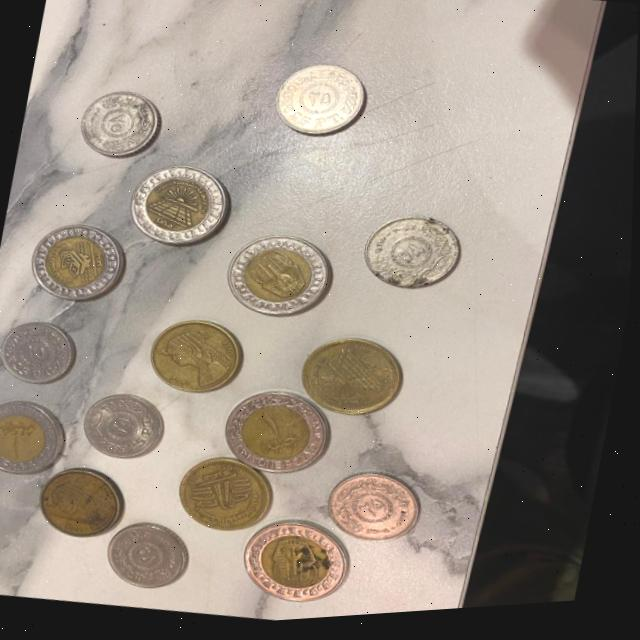Half Pound: (285, 326, 422, 430), (143, 309, 259, 409)
One Pound: (236, 507, 364, 620), (217, 227, 344, 330)
quarter pound: (350, 201, 475, 312), (263, 52, 381, 157)
